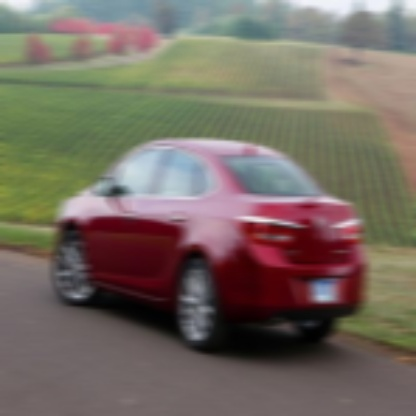Vehicle: (52, 139, 369, 357)
